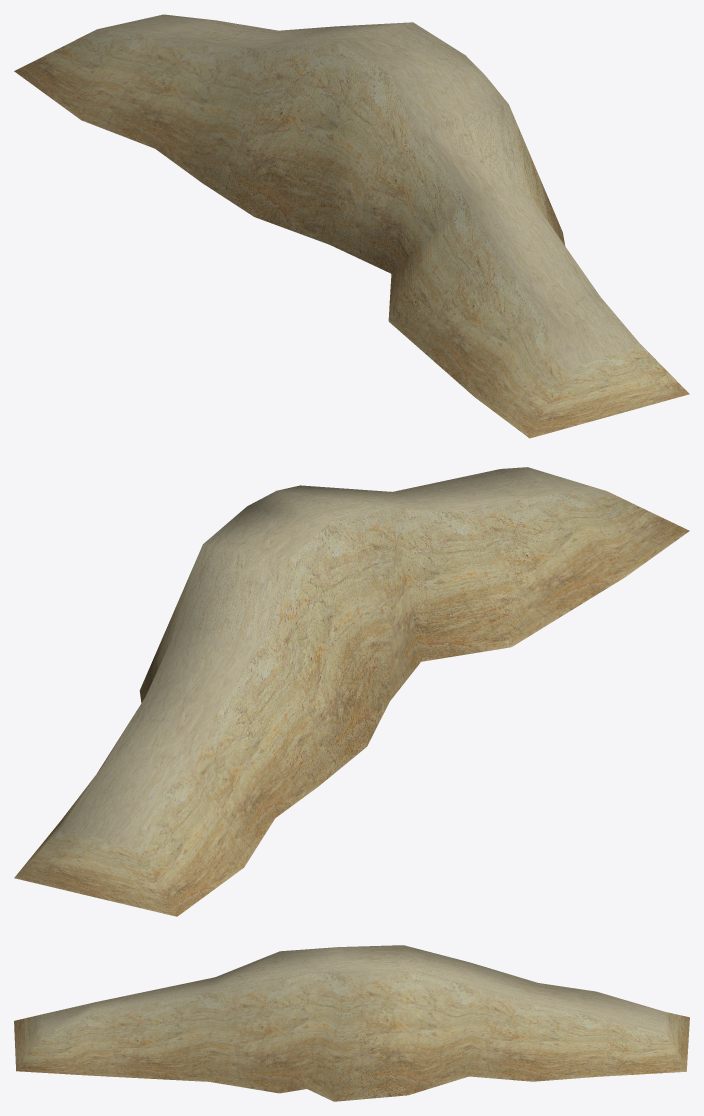
The model's file is rock_beach_spine_a1_l4.fbx.
3 views of the same model, one above another, from view 1: azimuth 30°, elevation 25°; view 2: azimuth 150°, elevation 25°; view 3: azimuth 270°, elevation 25° (orthographic). The views are drawn at different scales.
Parts seen in each view (by area): view 1: mesh_node; view 2: mesh_node; view 3: mesh_node.
Part boxes in pixels (x1=…): mesh_node: x1=14, y1=14, x2=689, y2=438; mesh_node: x1=14, y1=467, x2=689, y2=916; mesh_node: x1=14, y1=945, x2=689, y2=1101.
Size of the model in its own units: 7.83 by 4.8 by 26.78.
